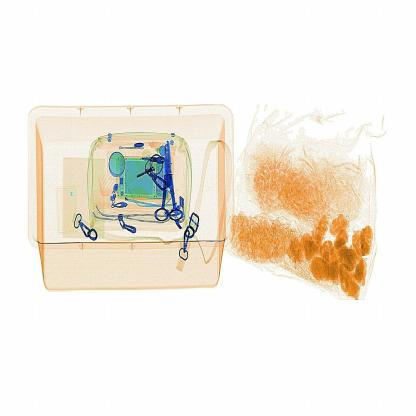gun: (148, 134, 190, 228)
